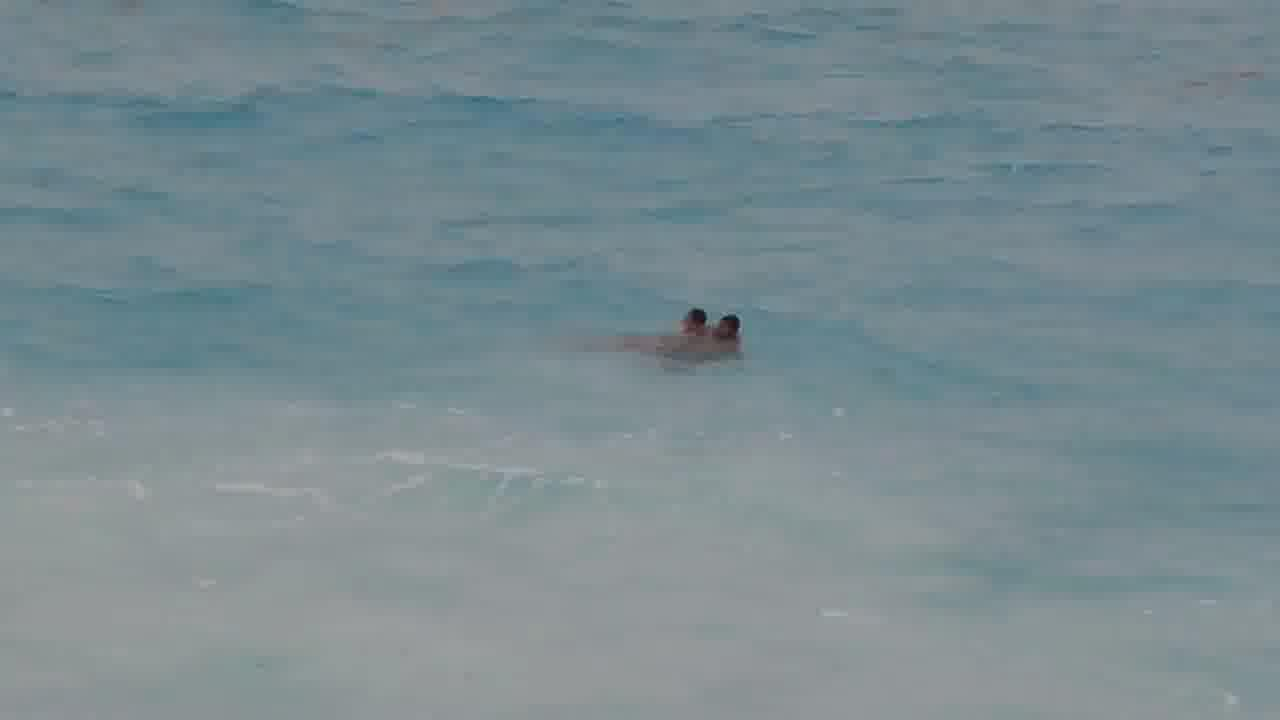swimmer: (587, 298, 711, 354), (706, 307, 767, 355)
